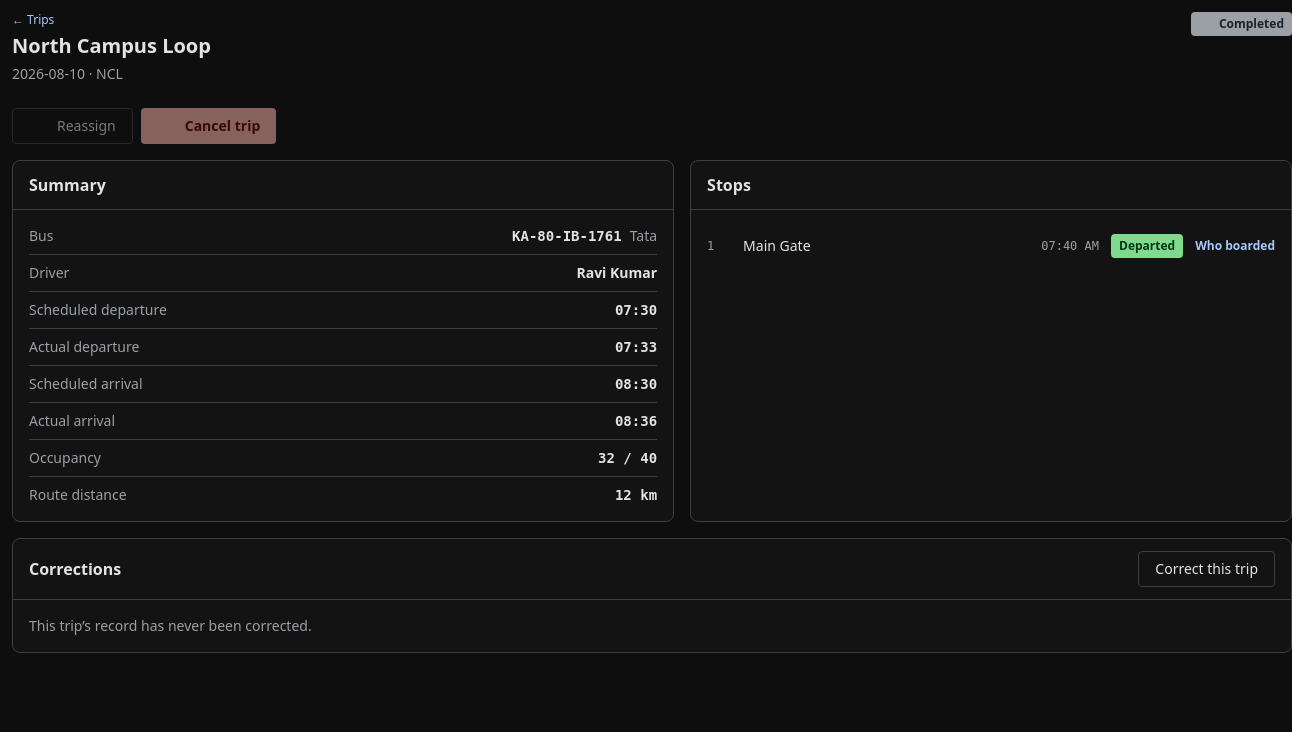
Test case: the stop roster › is fetched only when a transport head asks for a particular stop
Expected: the heading "North Campus Loop" is shown, [12,32,211,60]
Step 1. Click the button with aria-label "who boarded at main gate" → (1235, 246), box [1195,238,1275,254]
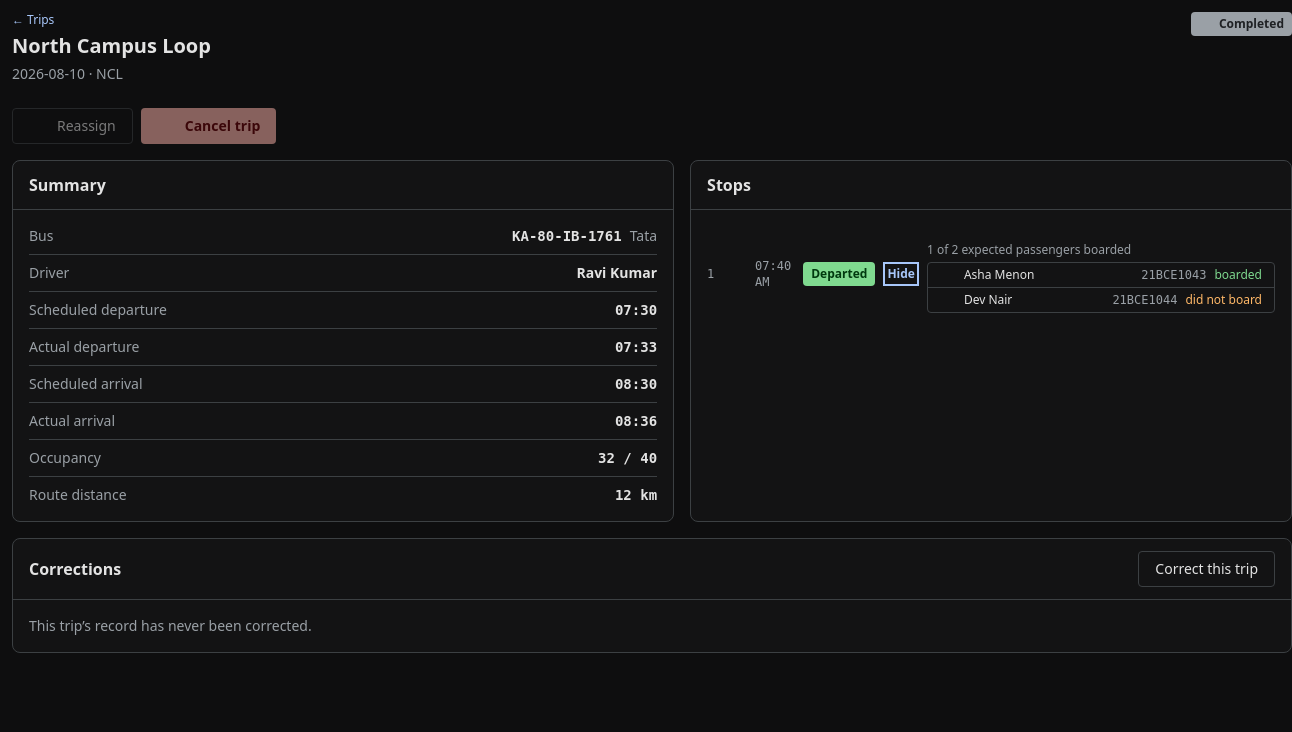
Now the text "Asha Menon" is shown, box [964,267,1034,283]
Now the text "did not board" is shown, box [1185,292,1262,308]
Now the text "1 of 2 expected passengers boarded" is shown, box [927,241,1131,258]
